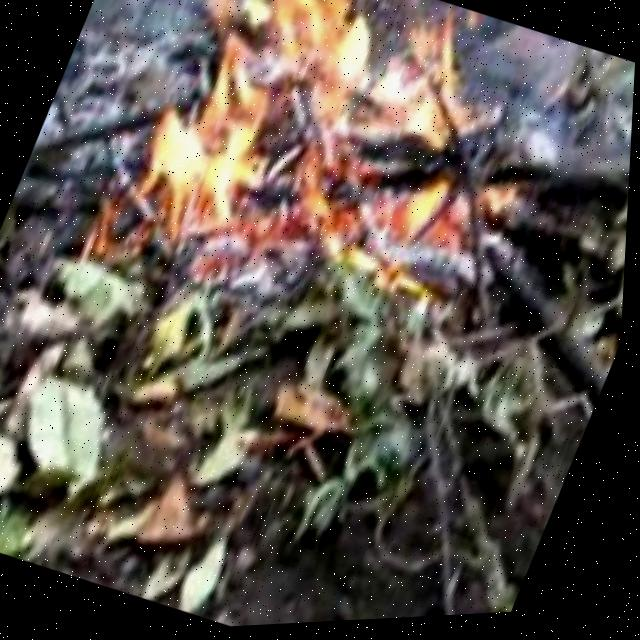Fire: (89, 0, 572, 347)
